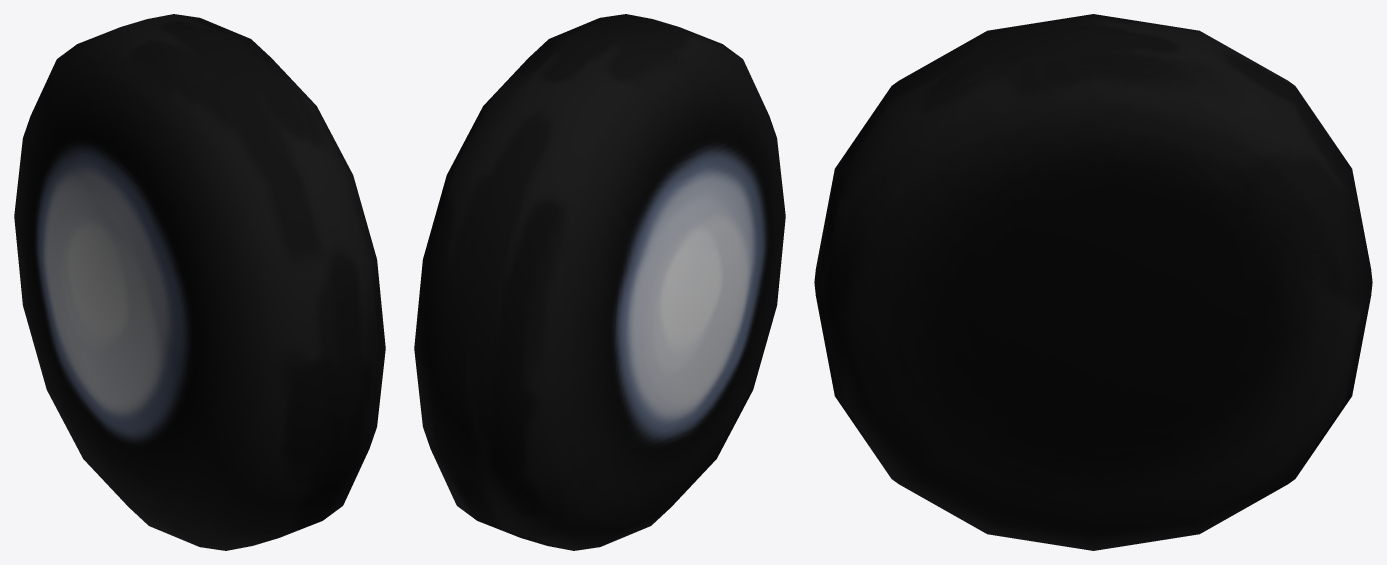
File: Mothman_frontwheelA.fbx
3 renders of one model, left to right at view 1: azimuth 30°, elevation 25°; view 2: azimuth 150°, elevation 25°; view 3: azimuth 270°, elevation 25°, orthographic. The views are drawn at different scales.
Visible parts, largest first — view 1: Plane.021; view 2: Plane.021; view 3: Plane.021.
Part boxes in pixels (left/top/right/bottom): Plane.021: left=14, top=14, right=385, bottom=550; Plane.021: left=414, top=14, right=785, bottom=550; Plane.021: left=814, top=14, right=1372, bottom=550.
Bounding box in the file's own units: 447 × 193 × 447.
1 material, 1 textured.
